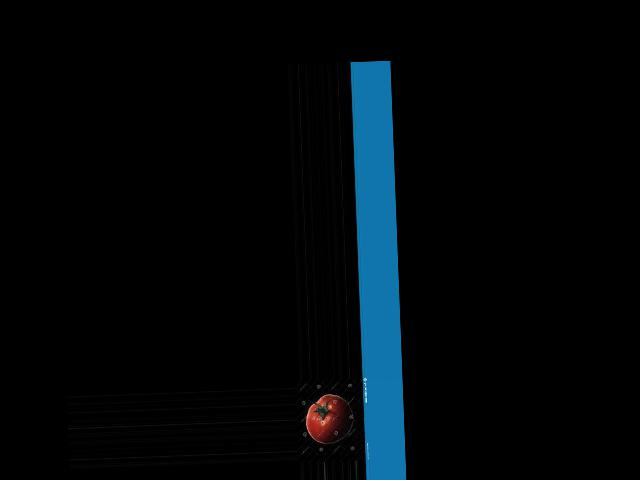tomato: (305, 393, 354, 445)
